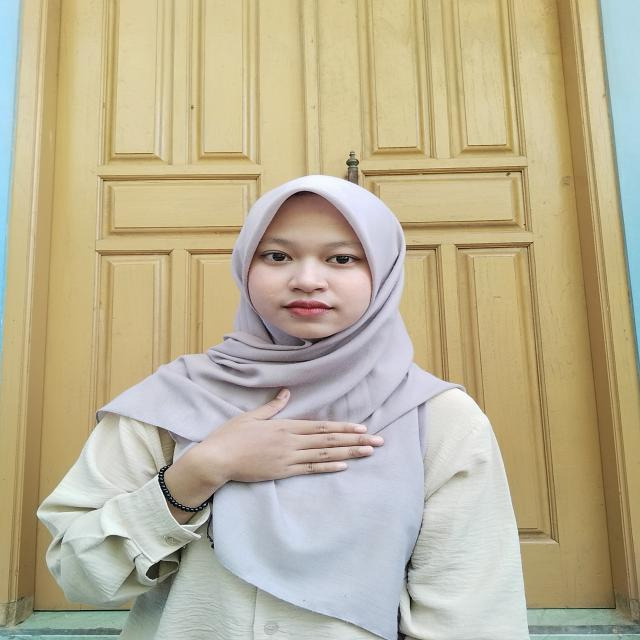tolong: (138, 383, 397, 519)
